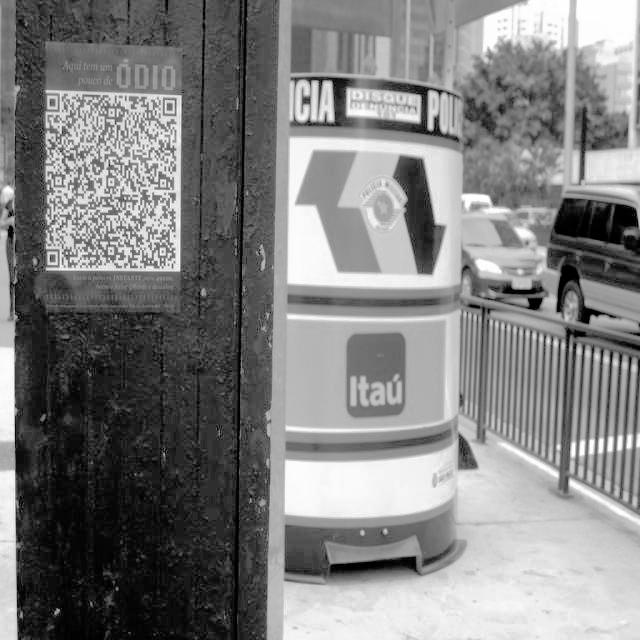qr_code: (46, 94, 176, 269)
